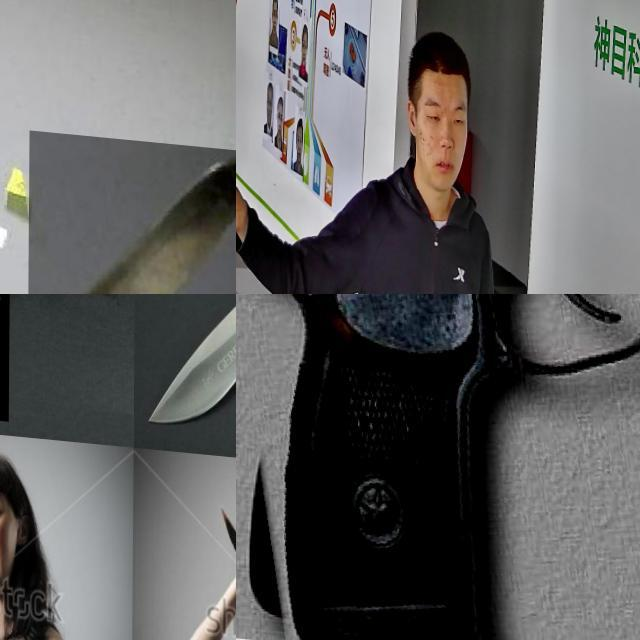-: (28, 125, 236, 294), (143, 294, 236, 435), (0, 294, 97, 417), (0, 468, 25, 540), (216, 493, 236, 565)
gun-knife-thesis - v11 Yolov5 augmented: (236, 294, 640, 640), (236, 37, 265, 182)
